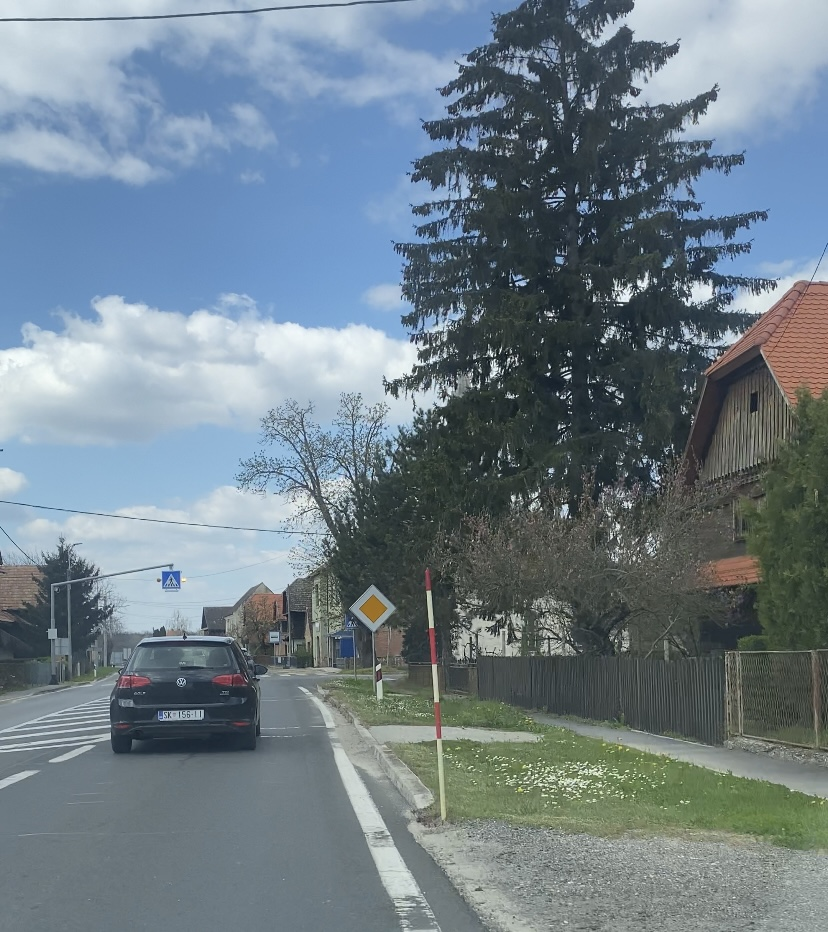Cesta s prednošću prolaska: (348, 583, 397, 633)
Pješački prijelaz: (162, 571, 180, 589)
